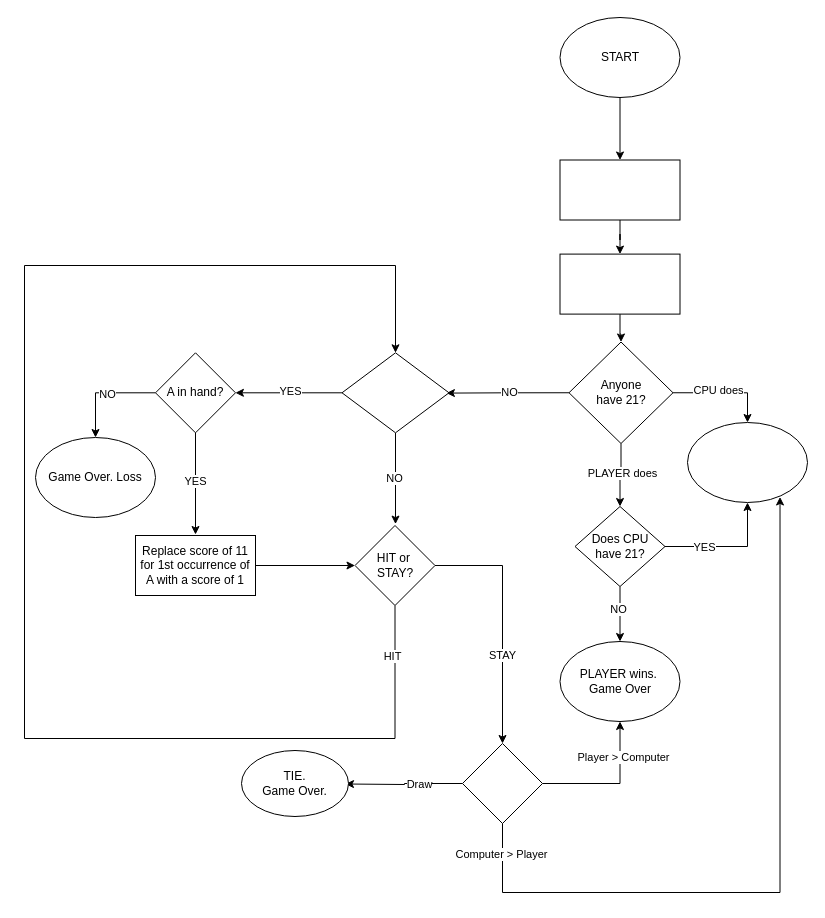
This 825x918 diagram has some shape labels left out. The shapes that lost their labels are listed below. From the top down, each one's box as (x1, y1, x2, y2) in pixels, then its label:
(559, 159, 680, 220): Deal player and computer hands
(559, 253, 680, 314): Calculate Score. Display 1st CPU card only, and entire player hand.
(341, 352, 449, 433): Anyone have over 21?
(686, 422, 808, 502): COMPUTER wins. Game Over
(462, 742, 542, 824): Compare Scores
